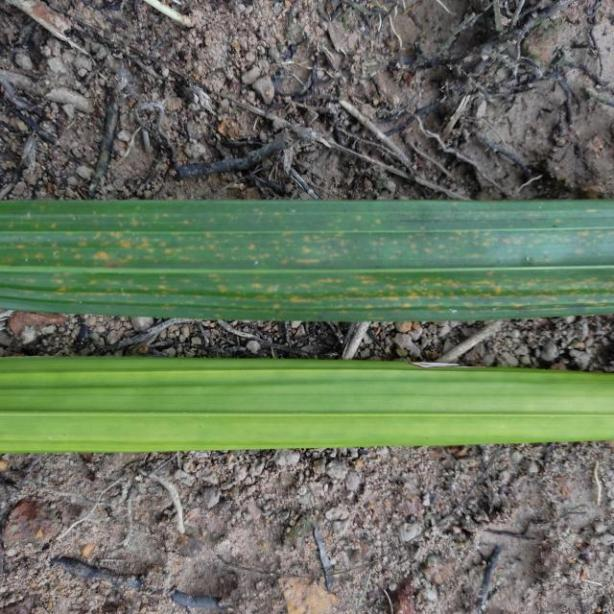nitrogen: (0, 190, 614, 320), (0, 345, 614, 452)
